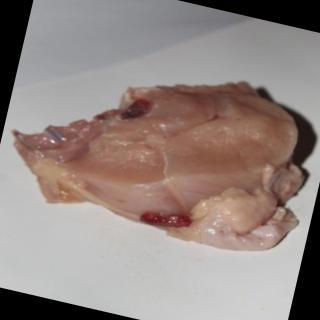Ayam: (1, 41, 318, 261)
